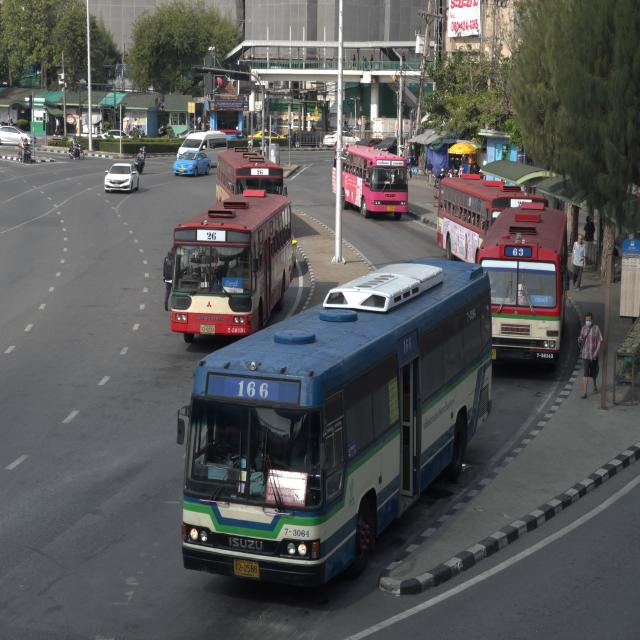BMTA-bus: (177, 259, 495, 593), (162, 192, 293, 343), (475, 206, 570, 372)
Bus-Line-Number: (233, 375, 272, 403), (512, 246, 525, 258), (205, 229, 218, 240)
Destination-Sign-Extra-Bus: (267, 466, 309, 512)
Destination-Sign-Normal: (222, 276, 242, 292), (531, 295, 553, 306)
